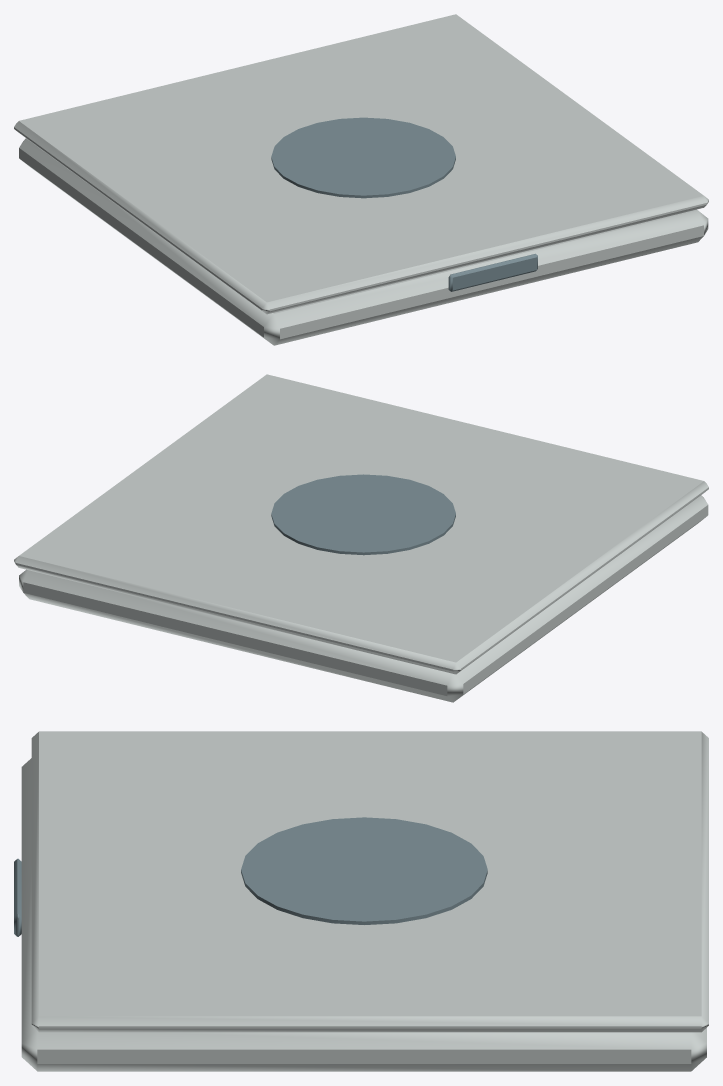
Rendered from pizza-box.glb.
The picture shows the model from 3 angles, top to bottom: view 1: azimuth 30°, elevation 25°; view 2: azimuth 150°, elevation 25°; view 3: azimuth 270°, elevation 25°; orthographic projection. The views are drawn at different scales.
Parts seen in each view (by area): view 1: lid, box_base, raised_round_badge, front_latch; view 2: lid, box_base, raised_round_badge; view 3: lid, box_base, raised_round_badge, front_latch.
Boxes of the visible parts, box(x1,y1,x2,y2) form: lid: box(14, 14, 708, 314); box_base: box(19, 138, 708, 345); raised_round_badge: box(271, 117, 455, 198); front_latch: box(448, 253, 537, 291); lid: box(14, 374, 708, 674); box_base: box(19, 495, 708, 702); raised_round_badge: box(271, 474, 455, 555); lid: box(31, 731, 708, 1032); box_base: box(21, 758, 706, 1071); raised_round_badge: box(241, 817, 487, 924); front_latch: box(14, 858, 21, 936).
Size of the model in its own units: 0.352 by 0.036 by 0.355.
